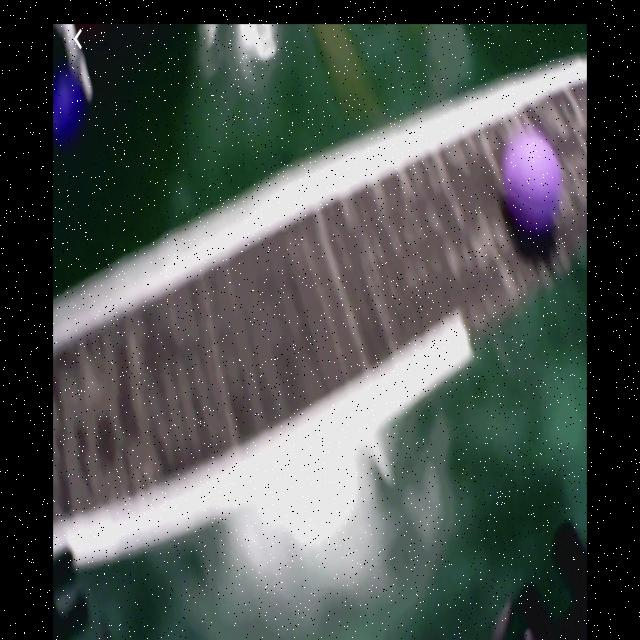ball: (501, 138, 563, 236), (55, 75, 87, 150)
